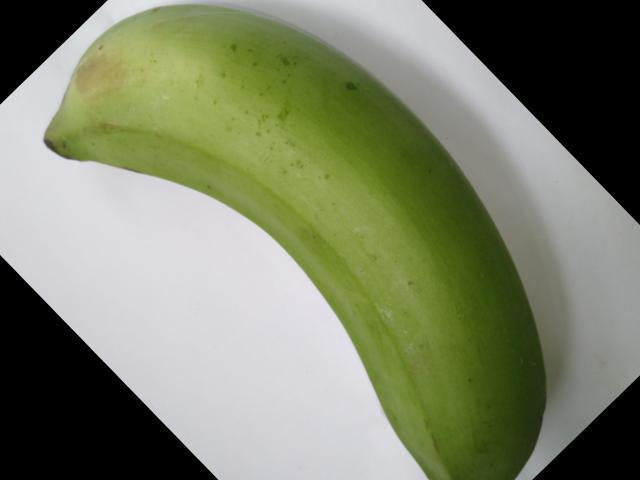freshunripe: (21, 0, 570, 479)
